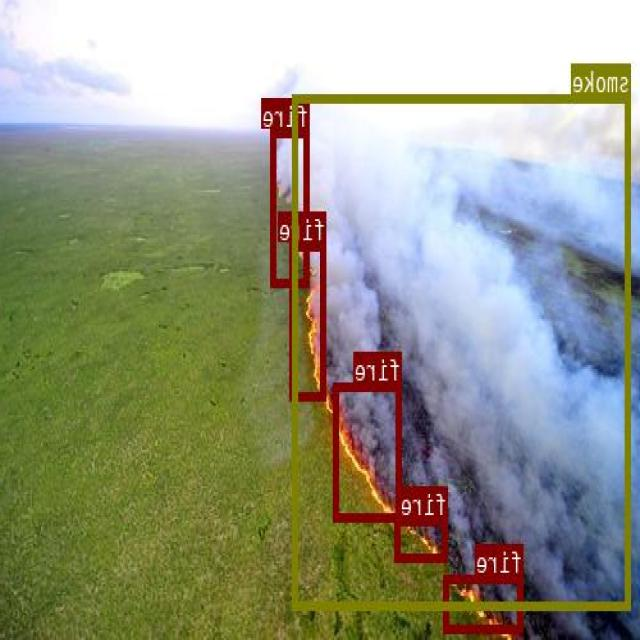fire: (334, 381, 402, 520), (272, 128, 310, 284), (292, 242, 327, 398), (444, 574, 524, 631), (397, 516, 448, 561)
smoke: (294, 92, 631, 608)
